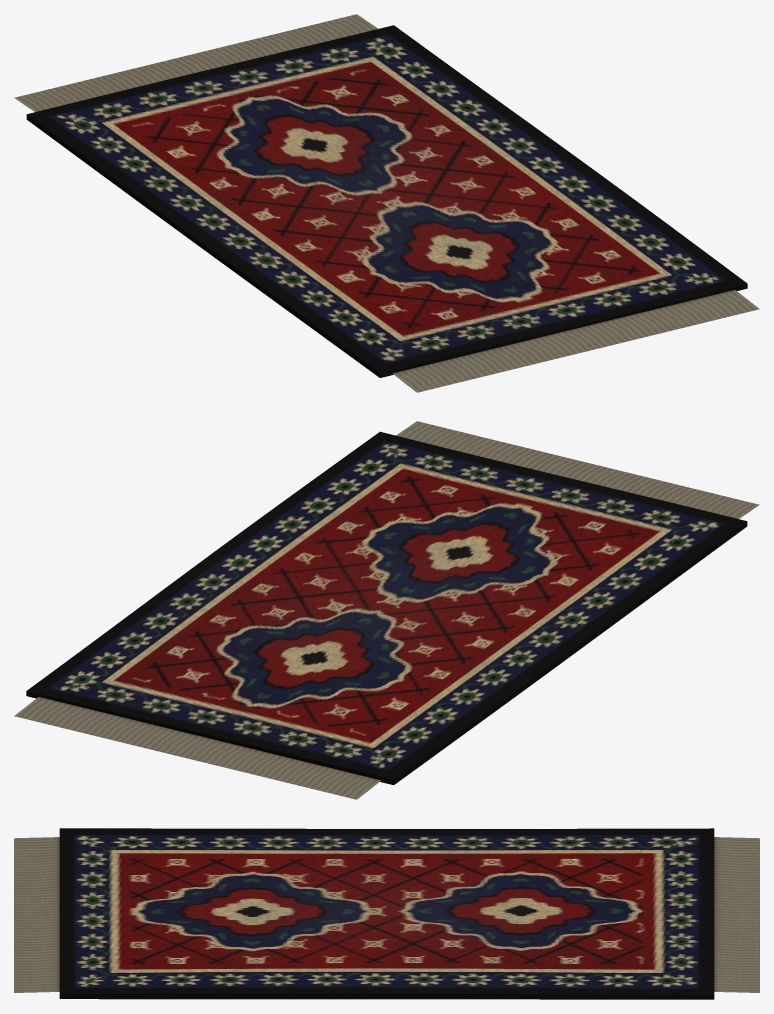
Rendered from carpet_rug_web.glb.
The picture shows the model from 3 angles, top to bottom: view 1: azimuth 30°, elevation 25°; view 2: azimuth 150°, elevation 25°; view 3: azimuth 270°, elevation 25°; orthographic projection. The views are drawn at different scales.
Parts seen in each view (by area): view 1: CarpetRug_Body; view 2: CarpetRug_Body; view 3: CarpetRug_Body.
Part boxes in pixels (left/top/right/bottom): CarpetRug_Body: left=14, top=14, right=759, bottom=392; CarpetRug_Body: left=14, top=421, right=759, bottom=799; CarpetRug_Body: left=14, top=828, right=759, bottom=999.
Size of the model in its own units: 0.6 by 0.0107 by 1.14.
Materials: 1 (1 with a texture image).
